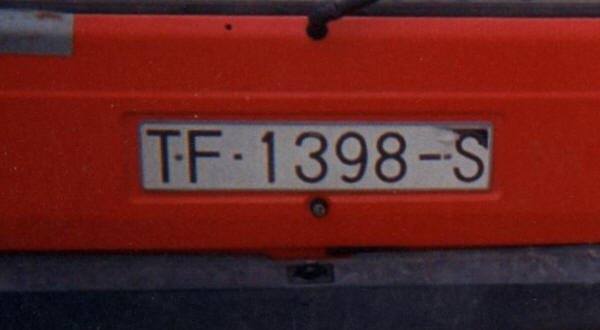license_plate: (139, 120, 494, 192)
